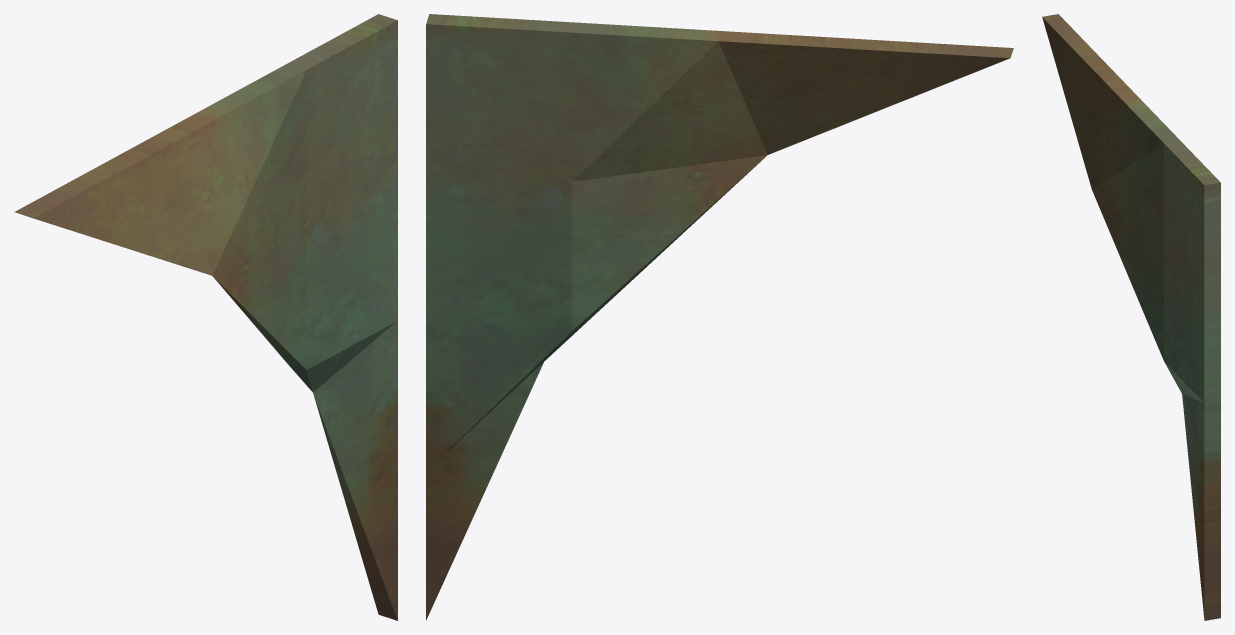
File: GH_1_EmbCR_6.gltf
The picture shows the model from 3 angles, left to right: view 1: azimuth 30°, elevation 25°; view 2: azimuth 150°, elevation 25°; view 3: azimuth 270°, elevation 25°; orthographic projection. The views are drawn at different scales.
Visible parts, largest first — view 1: GH_1_EmbCR_6; view 2: GH_1_EmbCR_6; view 3: GH_1_EmbCR_6.
Part boxes in pixels (x1,y1,x2,y2): GH_1_EmbCR_6: (14, 14, 397, 620); GH_1_EmbCR_6: (426, 14, 1013, 620); GH_1_EmbCR_6: (1042, 14, 1220, 620).
Size of the model in its own units: 1.18 by 1.4 by 0.5207.
Materials: 1 (1 with a texture image).
